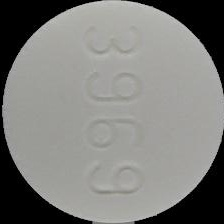50436-4032: (0, 0, 224, 224)
